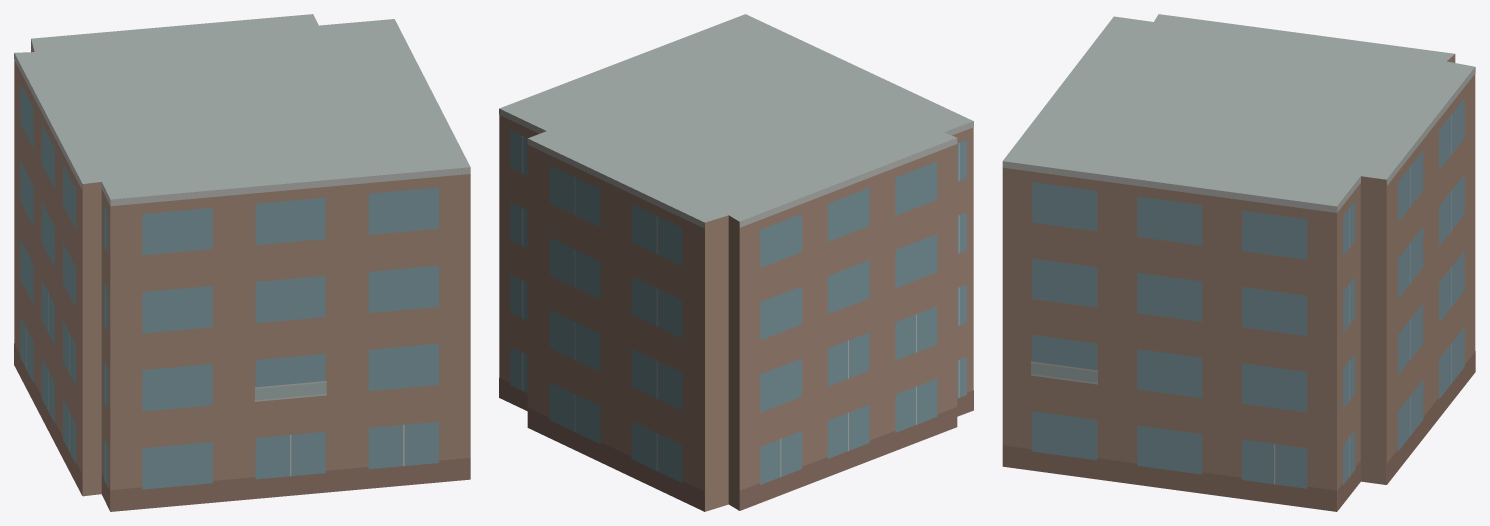
File: survey-upis-32839896.glb
3 renders of one model, left to right at view 1: azimuth 30°, elevation 25°; view 2: azimuth 150°, elevation 25°; view 3: azimuth 270°, elevation 25°, orthographic. The views are drawn at different scales.
Parts seen in each view (by area): view 1: survey-upis-32839896.tmp; view 2: survey-upis-32839896.tmp; view 3: survey-upis-32839896.tmp.
Part boxes in pixels (x1,y1,x2,y2): survey-upis-32839896.tmp: (14,14,470,511); survey-upis-32839896.tmp: (499,14,973,511); survey-upis-32839896.tmp: (1002,14,1475,511).
Bounding box in the file's own units: 15.49 × 11.45 × 16.08.
